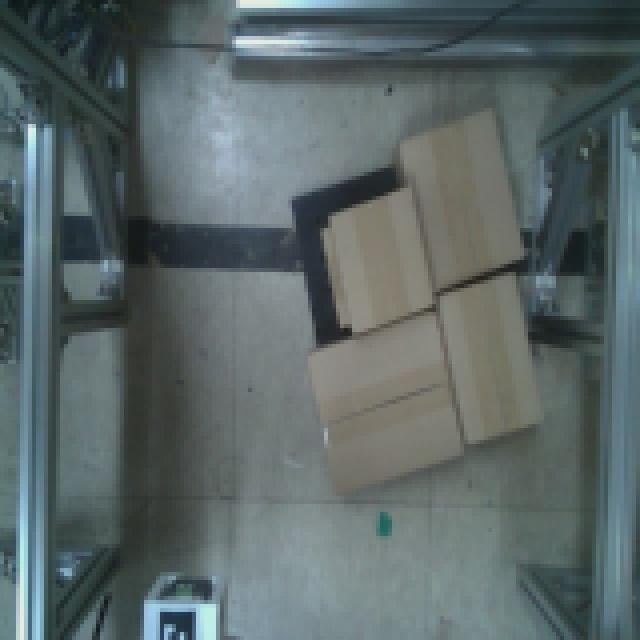box: (305, 308, 469, 504), (396, 106, 530, 299), (434, 269, 549, 450), (326, 187, 440, 341)
